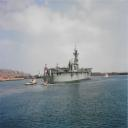Portanaves: (42, 42, 94, 86)
